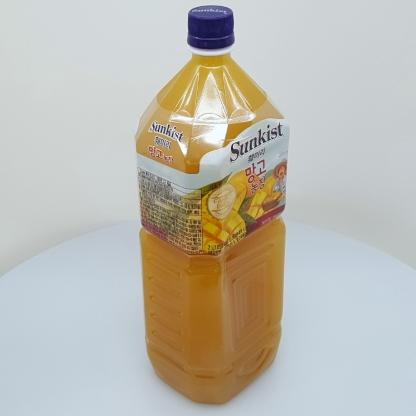---------2L: (134, 5, 290, 404)
